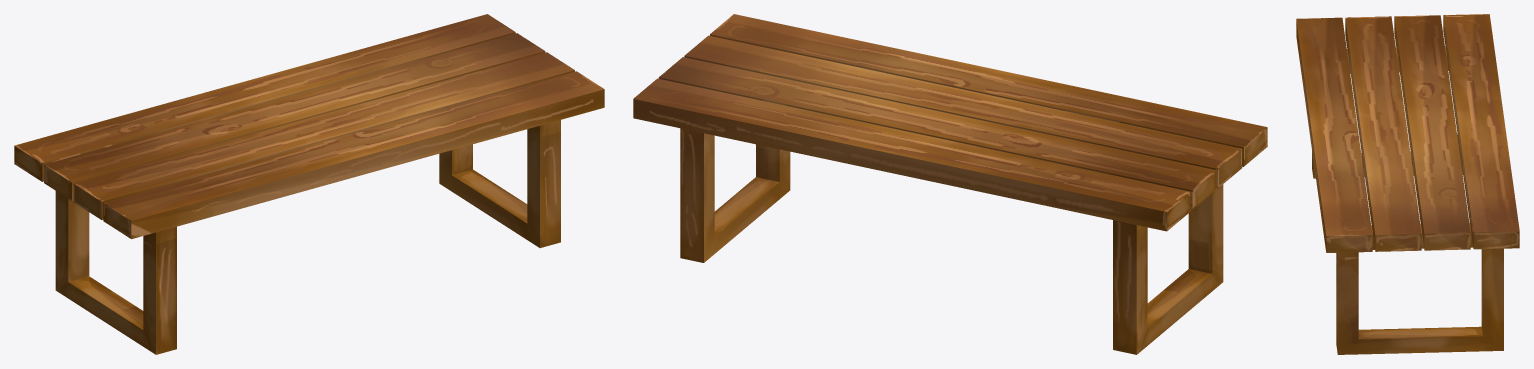
File: bench.fbx
The picture shows the model from 3 angles, left to right: view 1: azimuth 30°, elevation 25°; view 2: azimuth 150°, elevation 25°; view 3: azimuth 270°, elevation 25°; orthographic projection. The views are drawn at different scales.
Parts seen in each view (by area): view 1: benches; view 2: benches; view 3: benches.
Part boxes in pixels (x1,y1,x2,y2): benches: (14,14,604,354); benches: (633,14,1267,354); benches: (1296,14,1519,354).
Bounding box in the file's own units: 410 × 116 × 174.
1 material, 1 textured.
